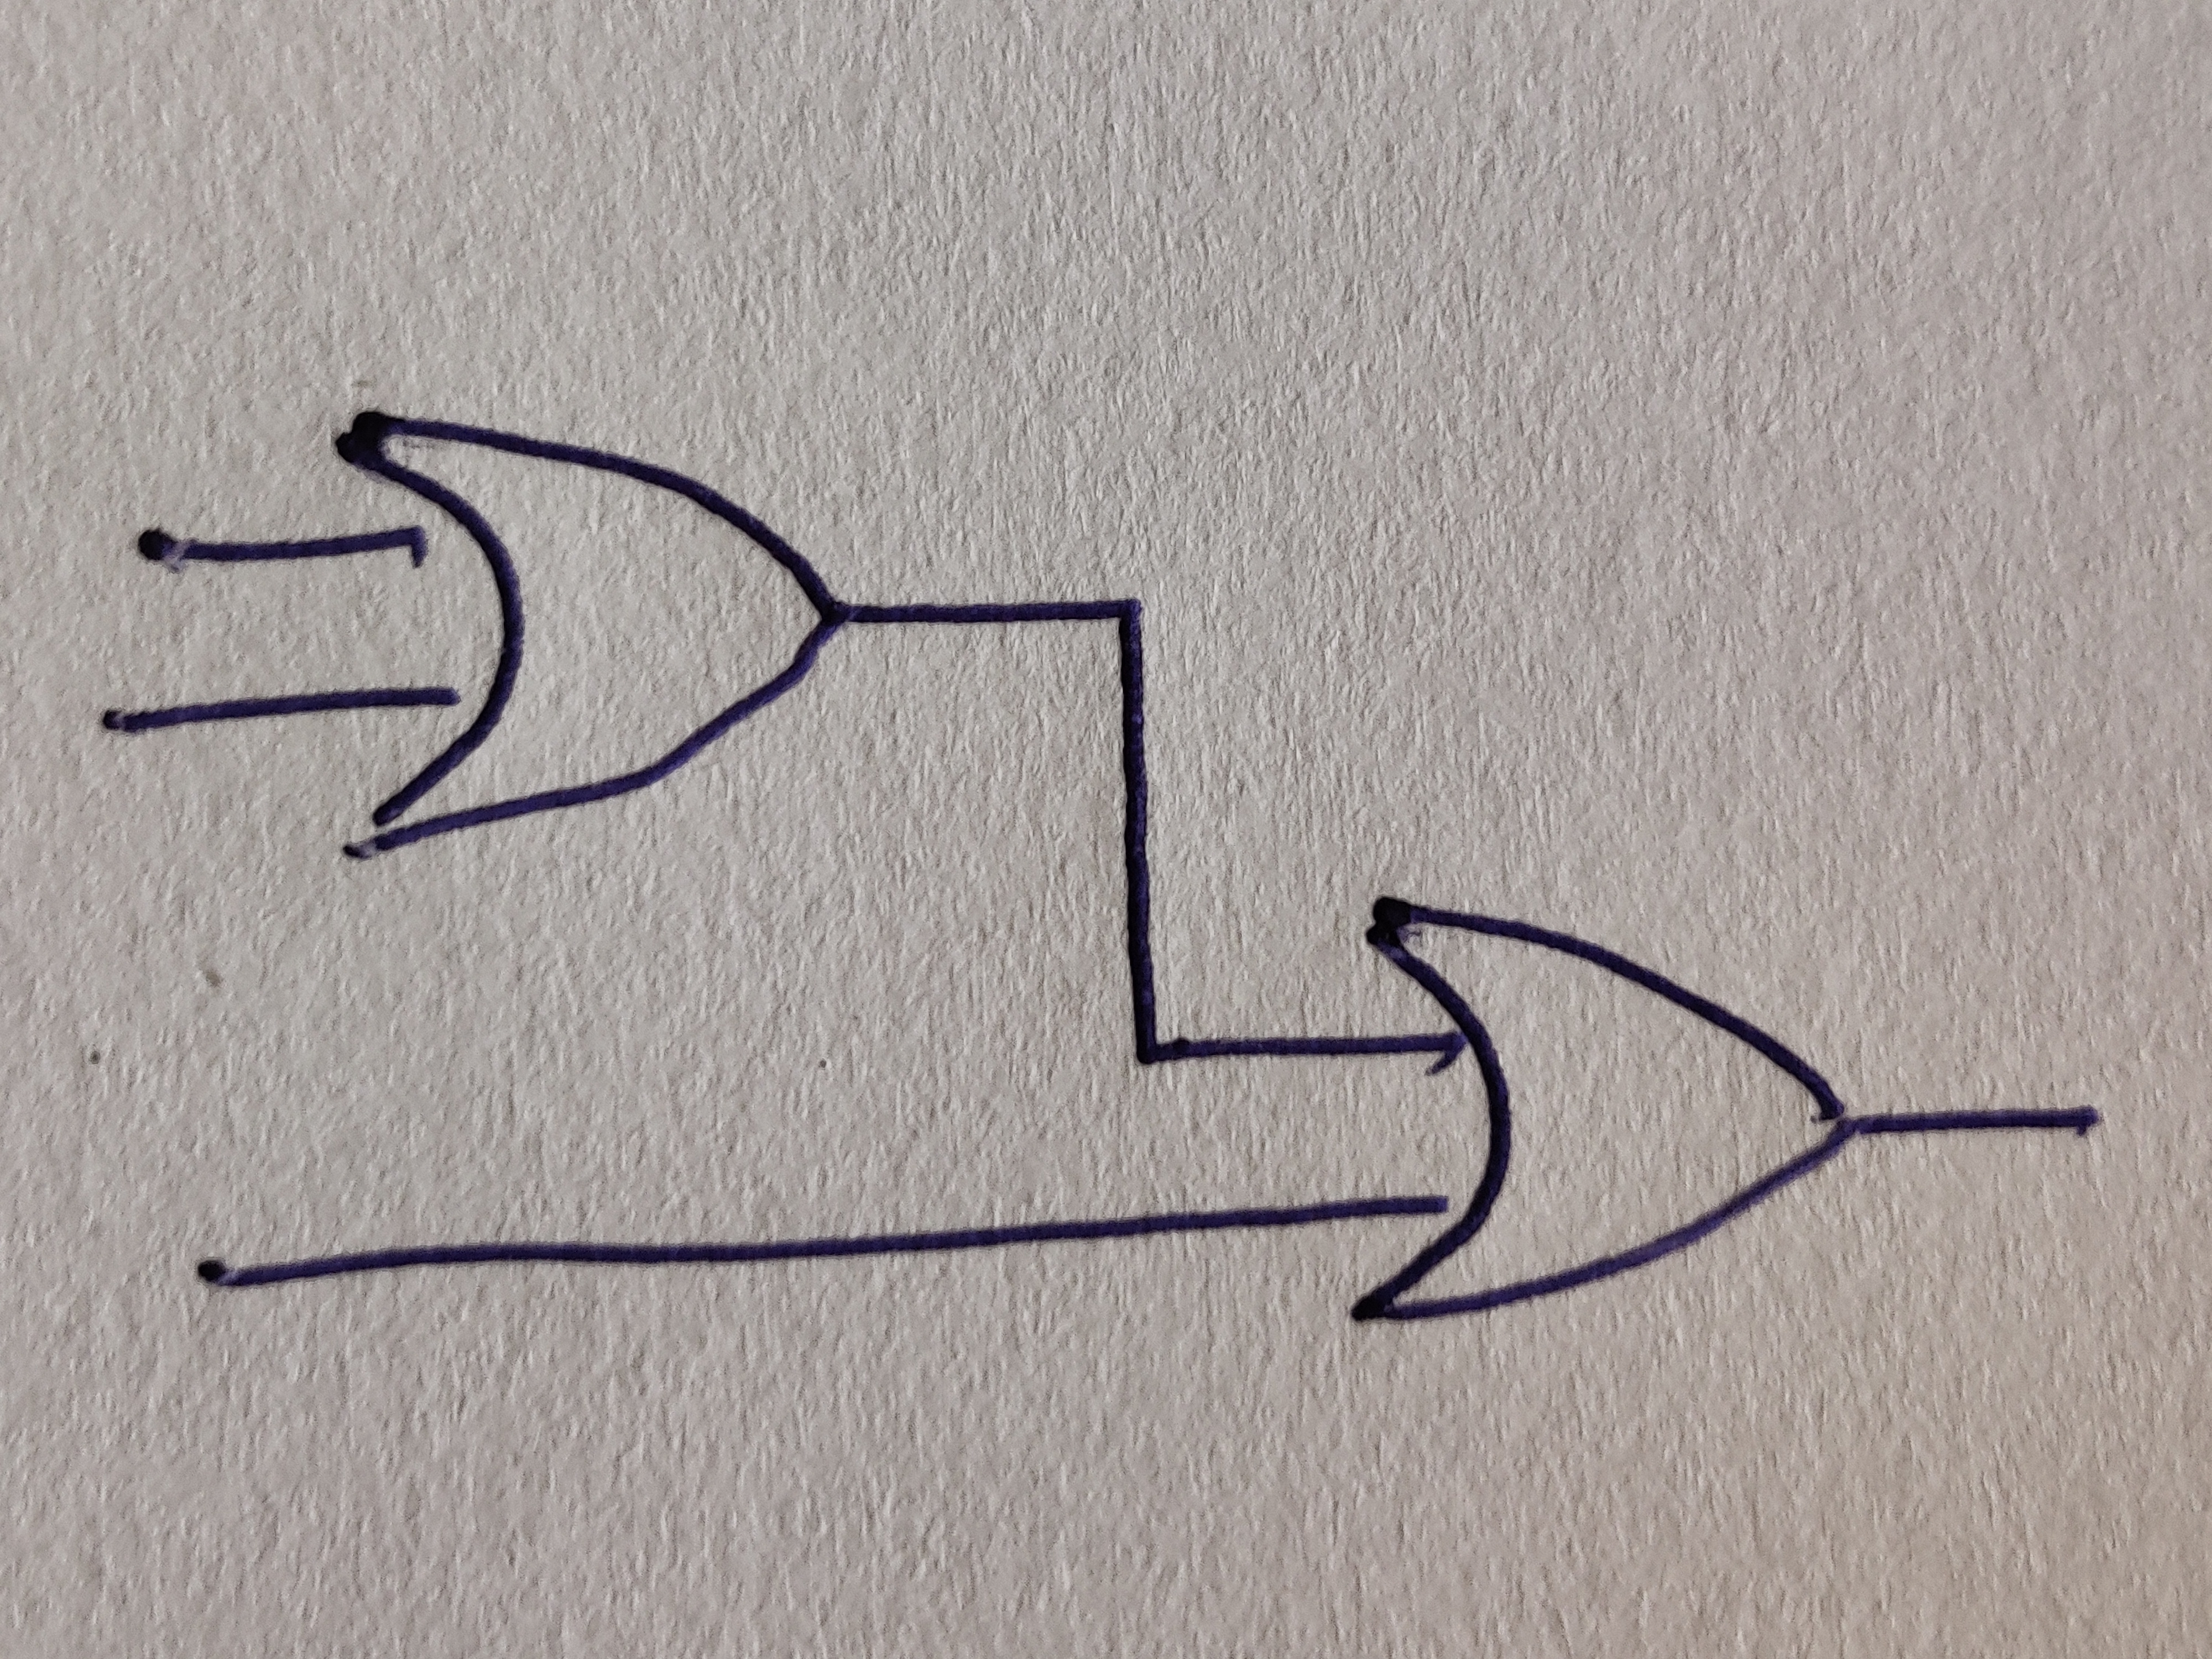or: (338, 410, 848, 859), (1350, 894, 1858, 1324)
